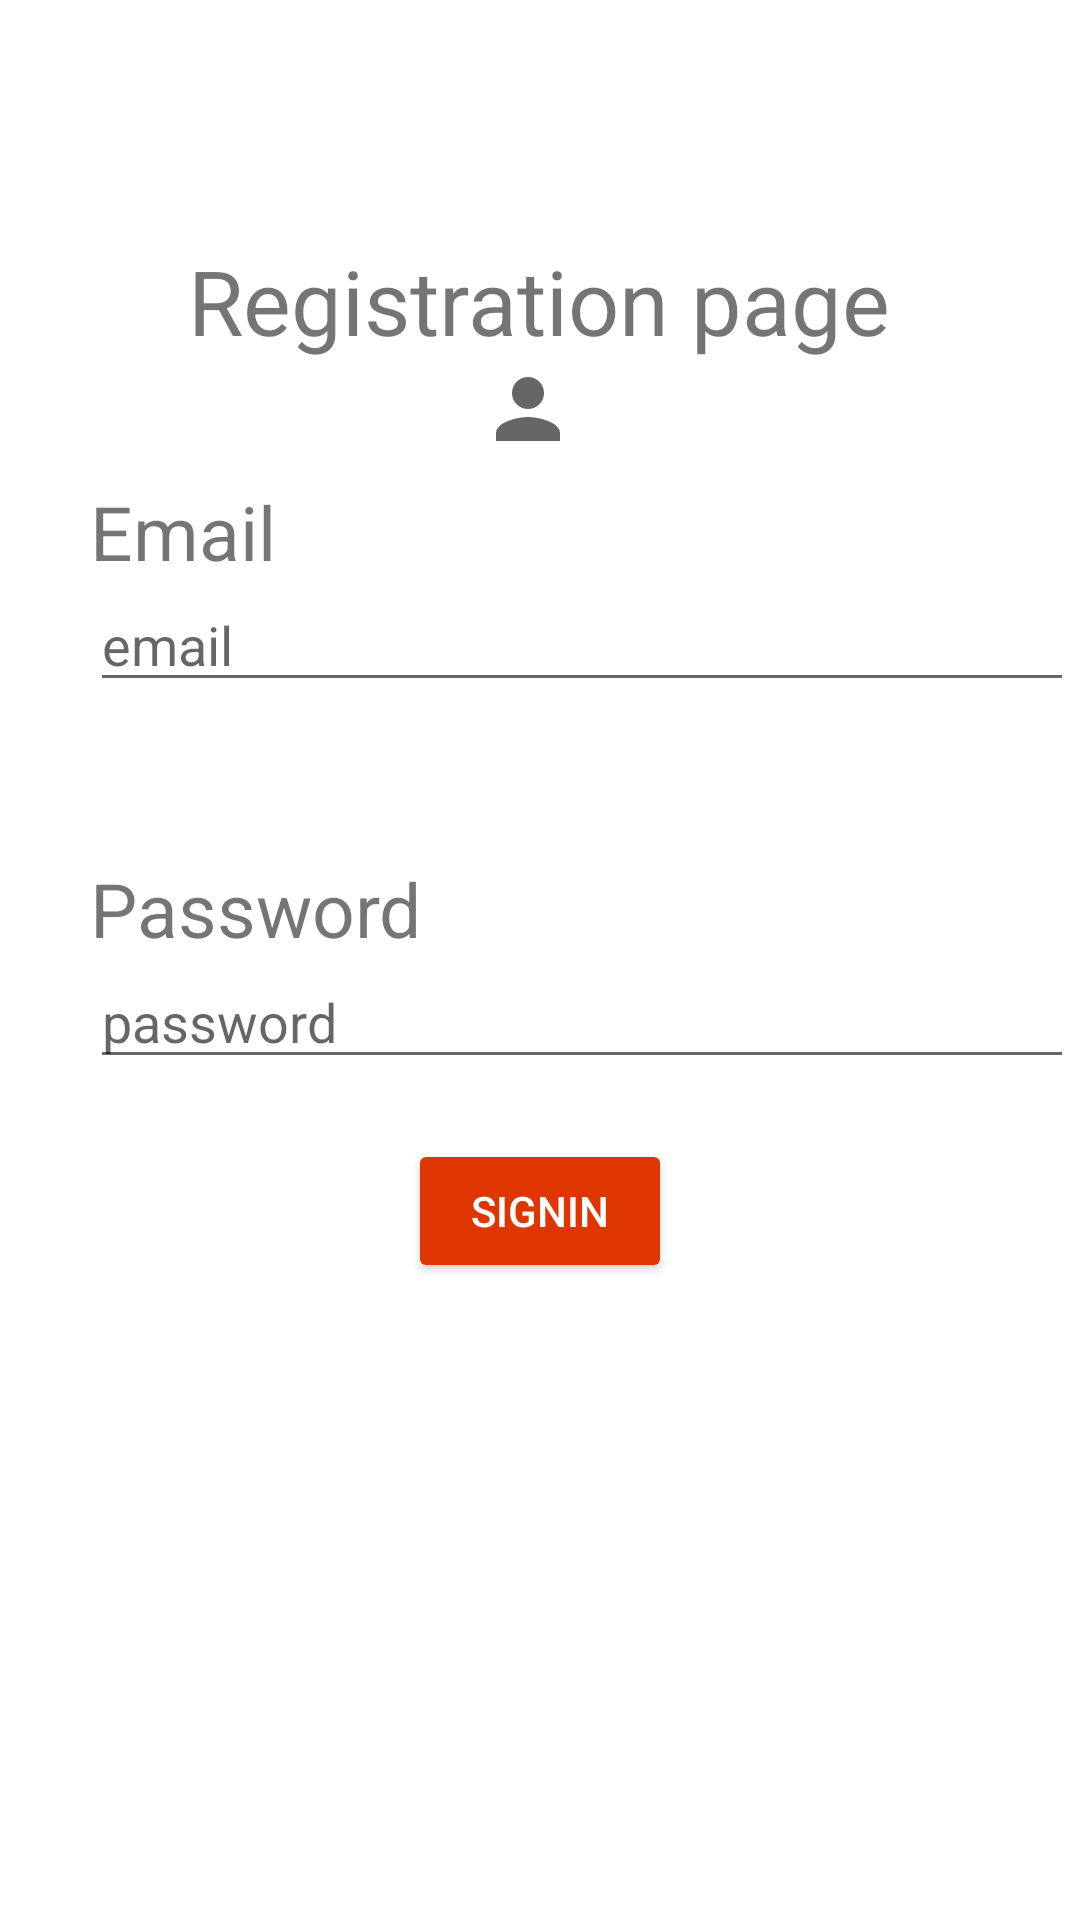

Icon click points for this 1080*1920 phone screenshot, format (x,y):
person: (528,409)
